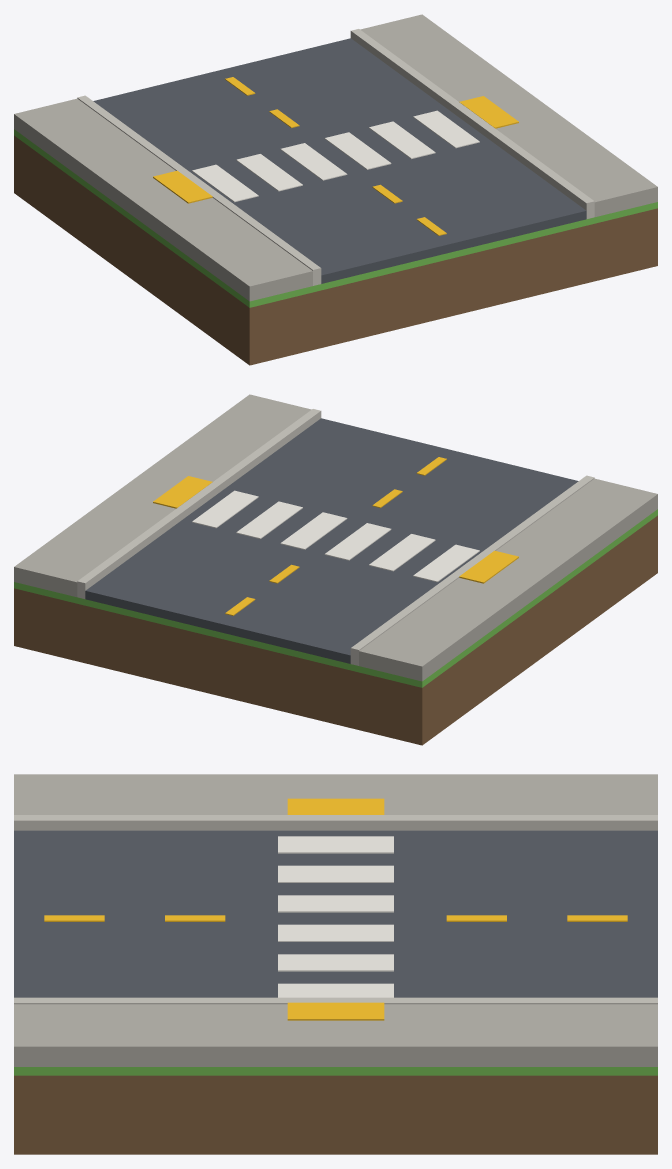
File: kit-cidade-asfalto-faixa-pedestre.glb
3 renders of one model, top to bottom at view 1: azimuth 30°, elevation 25°; view 2: azimuth 150°, elevation 25°; view 3: azimuth 270°, elevation 25°, orthographic. The views are drawn at different scales.
Visible parts, largest first — view 1: corpo; view 2: corpo; view 3: corpo.
Part boxes in pixels (x1,y1,x2,y2): corpo: (14, 14, 657, 365); corpo: (14, 394, 657, 745); corpo: (14, 774, 657, 1154).
Bounding box in the file's own units: 2 × 0.376 × 2.
